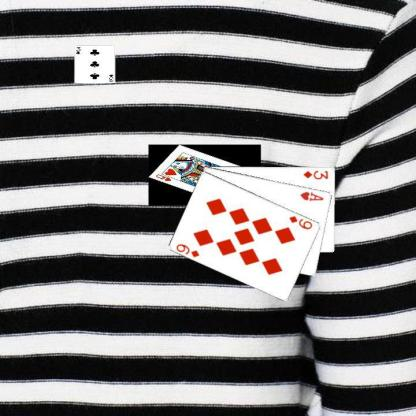3D: (301, 168, 329, 180)
9D: (286, 213, 314, 231), (174, 241, 200, 258)
AH: (298, 189, 324, 202)
